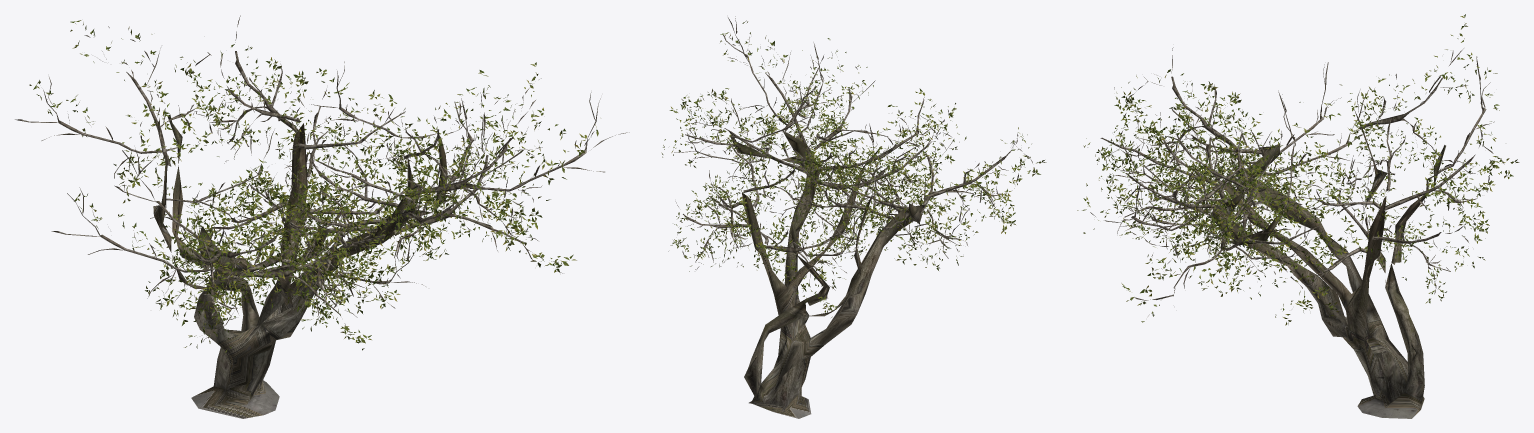
File: island_tree_02_lod.glb
3 renders of one model, left to right at view 1: azimuth 30°, elevation 25°; view 2: azimuth 150°, elevation 25°; view 3: azimuth 270°, elevation 25°, orthographic. The views are drawn at different scales.
Size of the model in its own units: 4.21 by 3.4 by 4.06.
3 materials, 3 textured.
